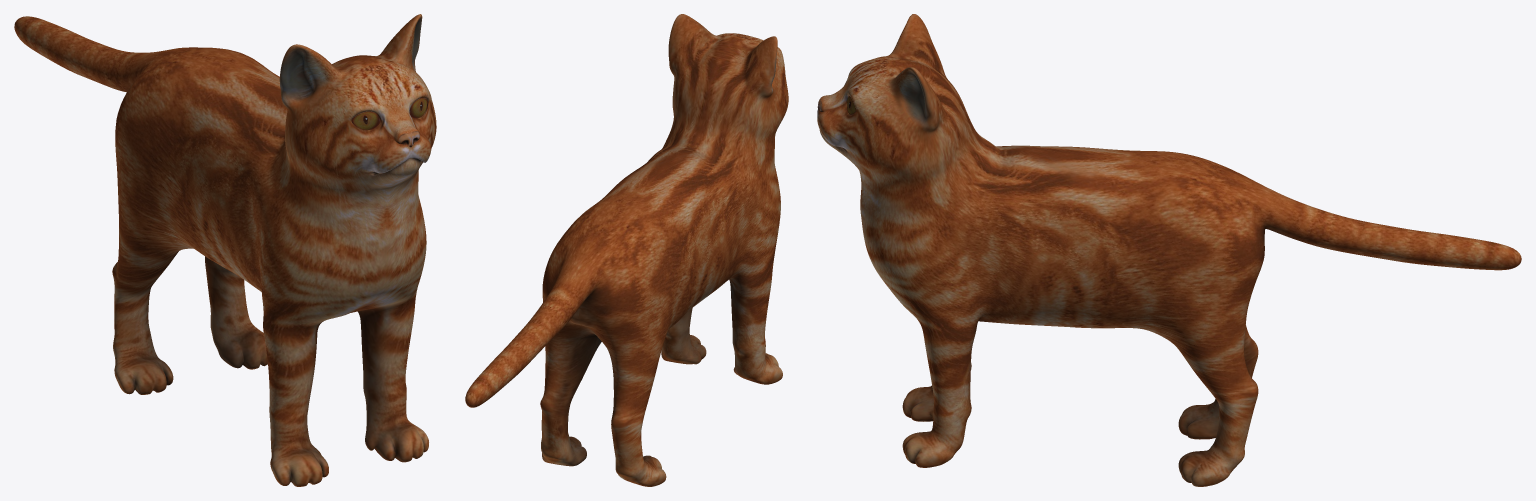
The model's file is gfg_gold_text_stand_23g.glb.
3 views of the same model, side by side, from view 1: azimuth 30°, elevation 25°; view 2: azimuth 150°, elevation 25°; view 3: azimuth 270°, elevation 25° (orthographic). The views are drawn at different scales.
Parts seen in each view (by area): view 1: 12221_Cat_v1_l3; view 2: 12221_Cat_v1_l3; view 3: 12221_Cat_v1_l3.
Part boxes in pixels (x1=…): 12221_Cat_v1_l3: x1=14, y1=14, x2=436, y2=486; 12221_Cat_v1_l3: x1=465, y1=14, x2=788, y2=486; 12221_Cat_v1_l3: x1=817, y1=14, x2=1521, y2=486.
Bounding box in the file's own units: 0.1145 × 0.3291 × 0.506.
Materials: 1 (1 with a texture image).
